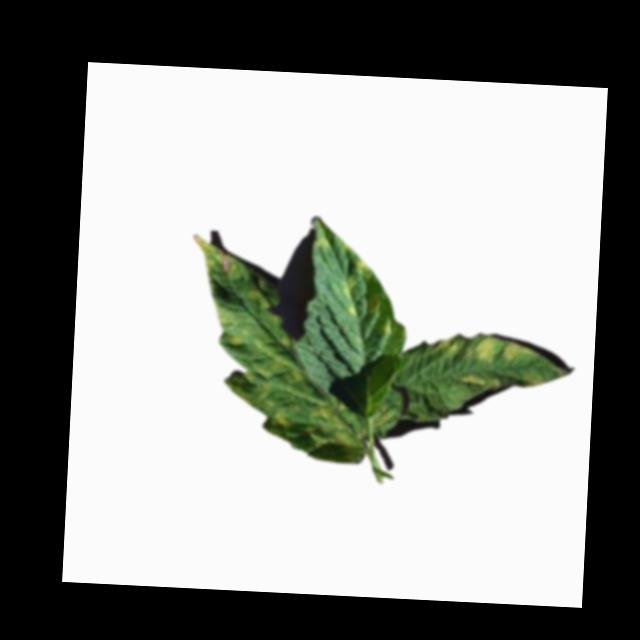Leaf_Mold: (176, 236, 363, 448), (433, 331, 531, 365), (342, 256, 386, 319), (460, 367, 545, 393)
